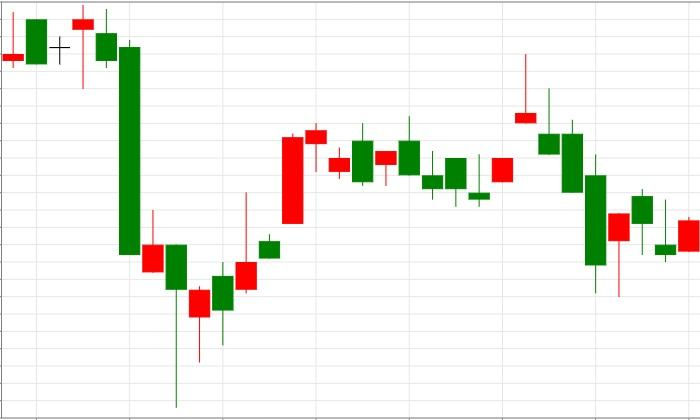hammer_rise: (72, 6, 188, 408)
